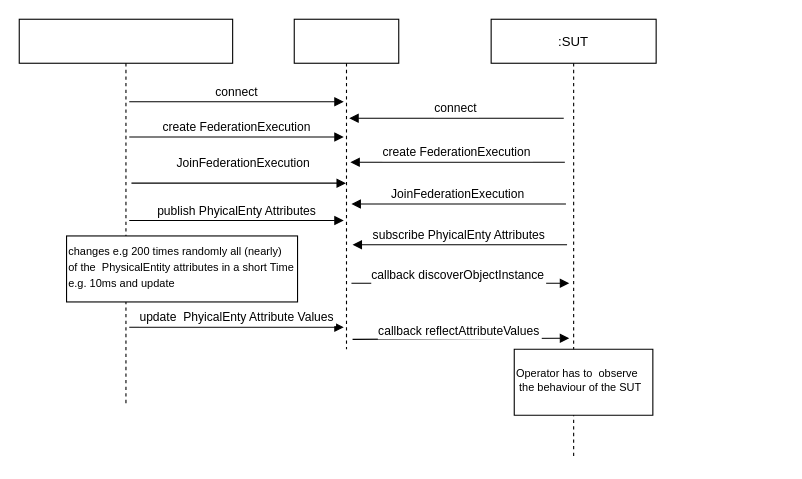
This 802x479 diagram has some shape labels left out. Each missing label, with the box of its shape:
:RTI: (293, 18, 399, 349)
:TC_IR_RPR2_PHY_0001: (18, 18, 233, 404)
